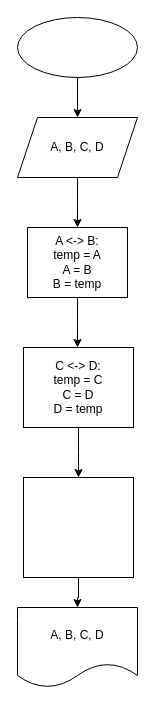
Some shapes in this 155 by 705 pixel diagram are drawn without their labels. Here are the shapes that lost their labels. From the top down, the centre of each, then its label:
At point (77, 47): "Начало".
At point (78, 527): "B <-> C: temp = B B = C C = temp".
